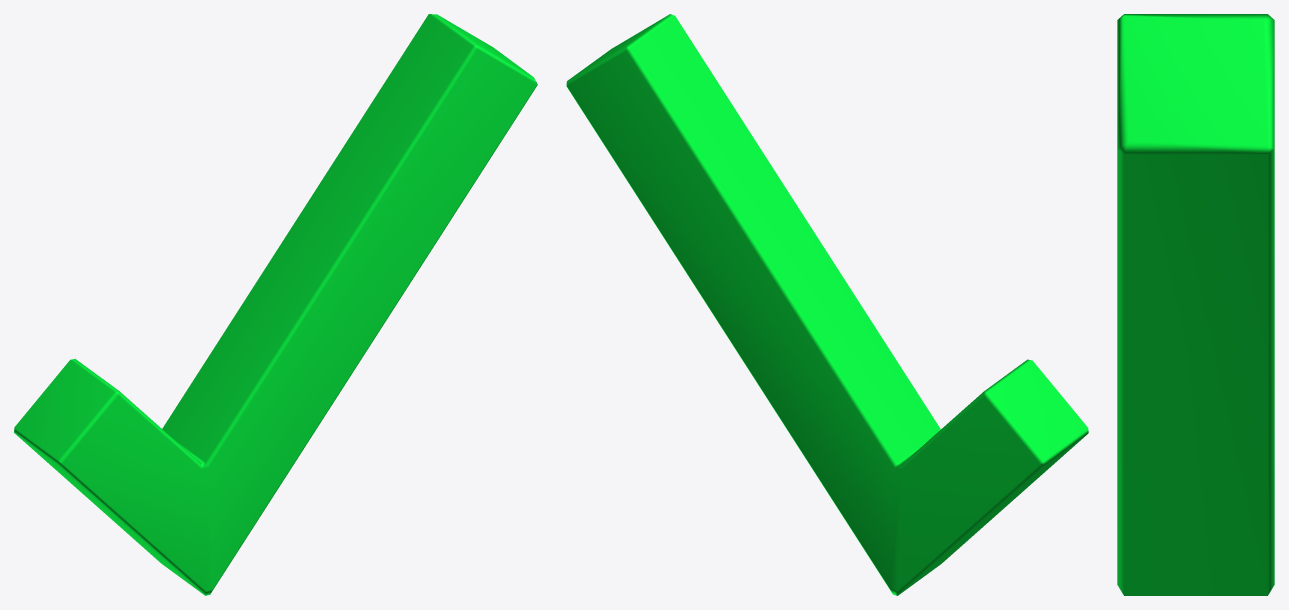
File: checkmark.glb
The picture shows the model from 3 angles, left to right: view 1: azimuth 30°, elevation 25°; view 2: azimuth 150°, elevation 25°; view 3: azimuth 270°, elevation 25°; orthographic projection. The views are drawn at different scales.
Parts seen in each view (by area): view 1: Checkmark; view 2: Checkmark; view 3: Checkmark.
Boxes of the visible parts, x1=… form: Checkmark: x1=14, y1=14, x2=537, y2=595; Checkmark: x1=566, y1=14, x2=1088, y2=595; Checkmark: x1=1117, y1=14, x2=1274, y2=595.
Size of the model in its own units: 1.56 by 1.51 by 0.2708.
